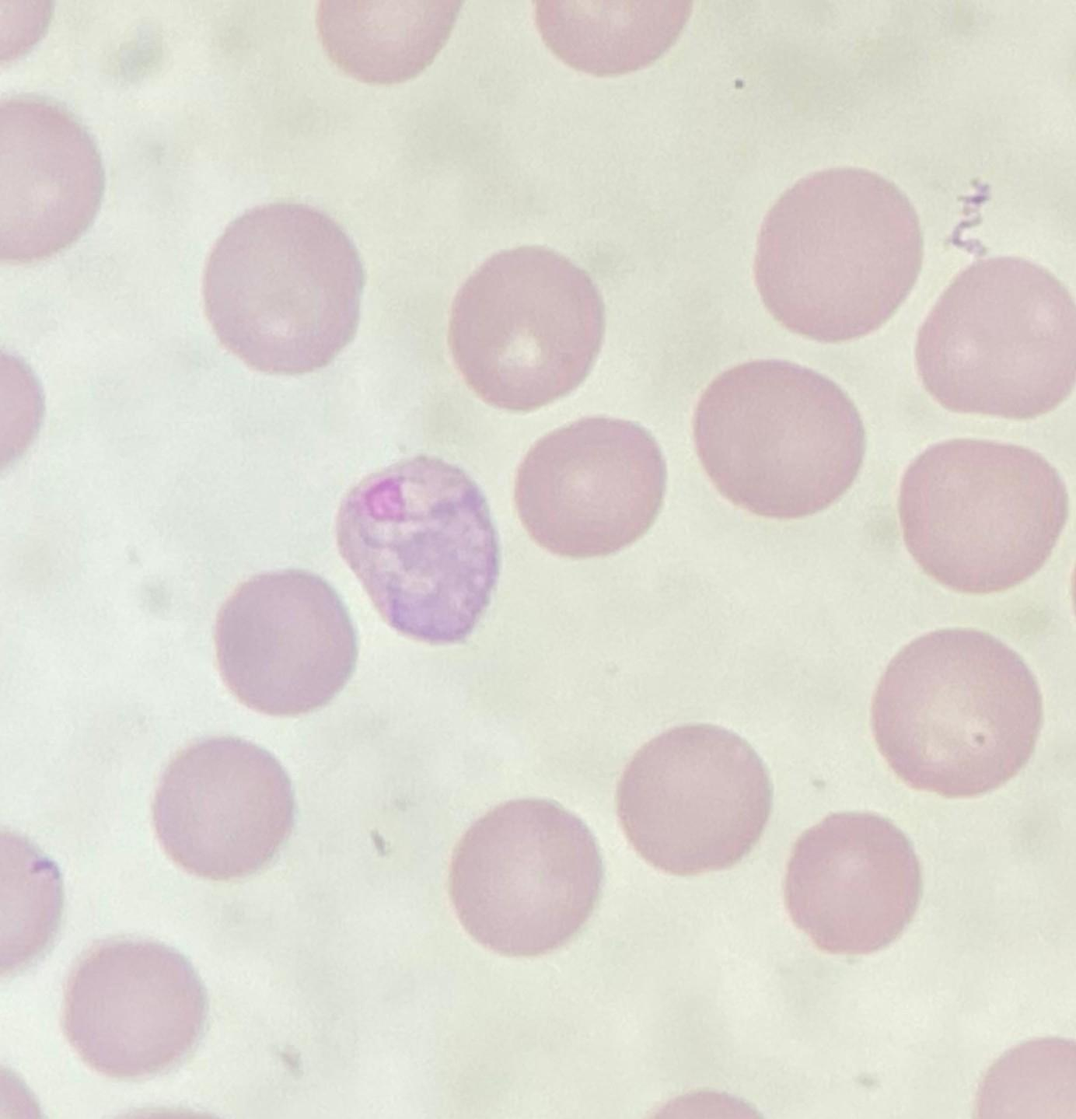Infected: (334, 457, 500, 641)
Uninfected: (756, 168, 928, 341), (202, 203, 367, 377), (912, 257, 1075, 425), (698, 358, 866, 521), (871, 632, 1041, 792), (899, 438, 1068, 590), (449, 794, 604, 954), (453, 247, 601, 412), (624, 716, 771, 877), (518, 417, 665, 560), (62, 939, 208, 1078), (785, 807, 920, 957), (218, 570, 359, 709), (154, 737, 290, 881), (0, 96, 104, 269)
